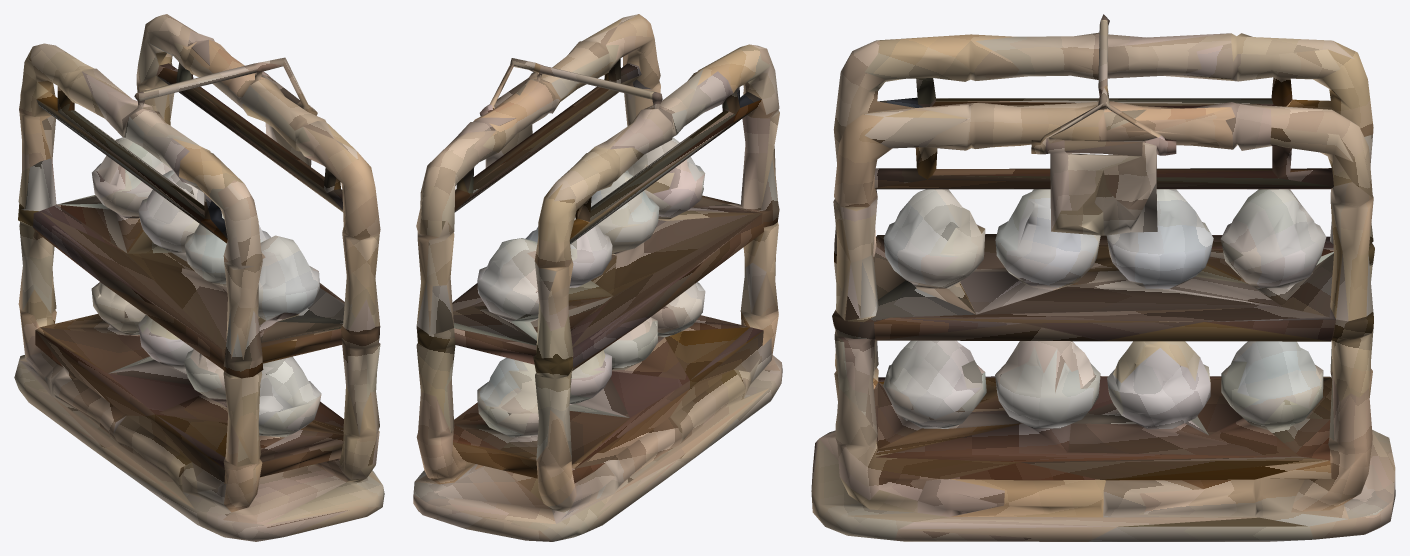
File: JP_사물_s2_prop_bingsu_stack.glb
The picture shows the model from 3 angles, left to right: view 1: azimuth 30°, elevation 25°; view 2: azimuth 150°, elevation 25°; view 3: azimuth 270°, elevation 25°; orthographic projection. The views are drawn at different scales.
Visible parts, largest first — view 1: tripo_node_c3f9080b-826c-44a8-aea2-7817c3fe1c84; view 2: tripo_node_c3f9080b-826c-44a8-aea2-7817c3fe1c84; view 3: tripo_node_c3f9080b-826c-44a8-aea2-7817c3fe1c84.
Part boxes in pixels (bbox=[...]): tripo_node_c3f9080b-826c-44a8-aea2-7817c3fe1c84: bbox=[14, 14, 384, 541]; tripo_node_c3f9080b-826c-44a8-aea2-7817c3fe1c84: bbox=[413, 14, 782, 541]; tripo_node_c3f9080b-826c-44a8-aea2-7817c3fe1c84: bbox=[811, 14, 1395, 541].
Size of the model in its own units: 0.4312 by 0.833 by 0.9977.
Materials: 1 (1 with a texture image).
